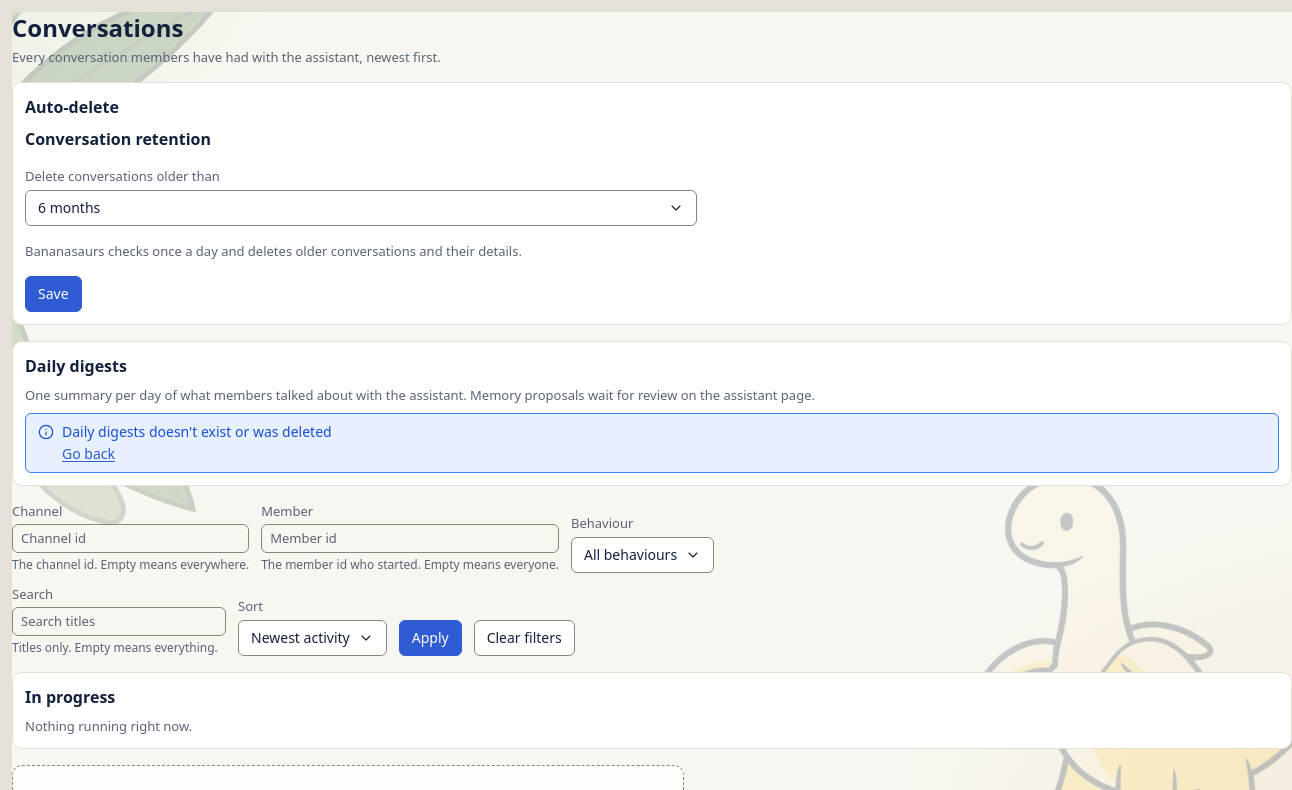
Test: retention discard restores loaded days without writing
This screenshot has width=1292, height=790.
Click the dropdown named "Delete conversations older than" at (69, 207), box x1=25 y1=190 x2=697 y2=226
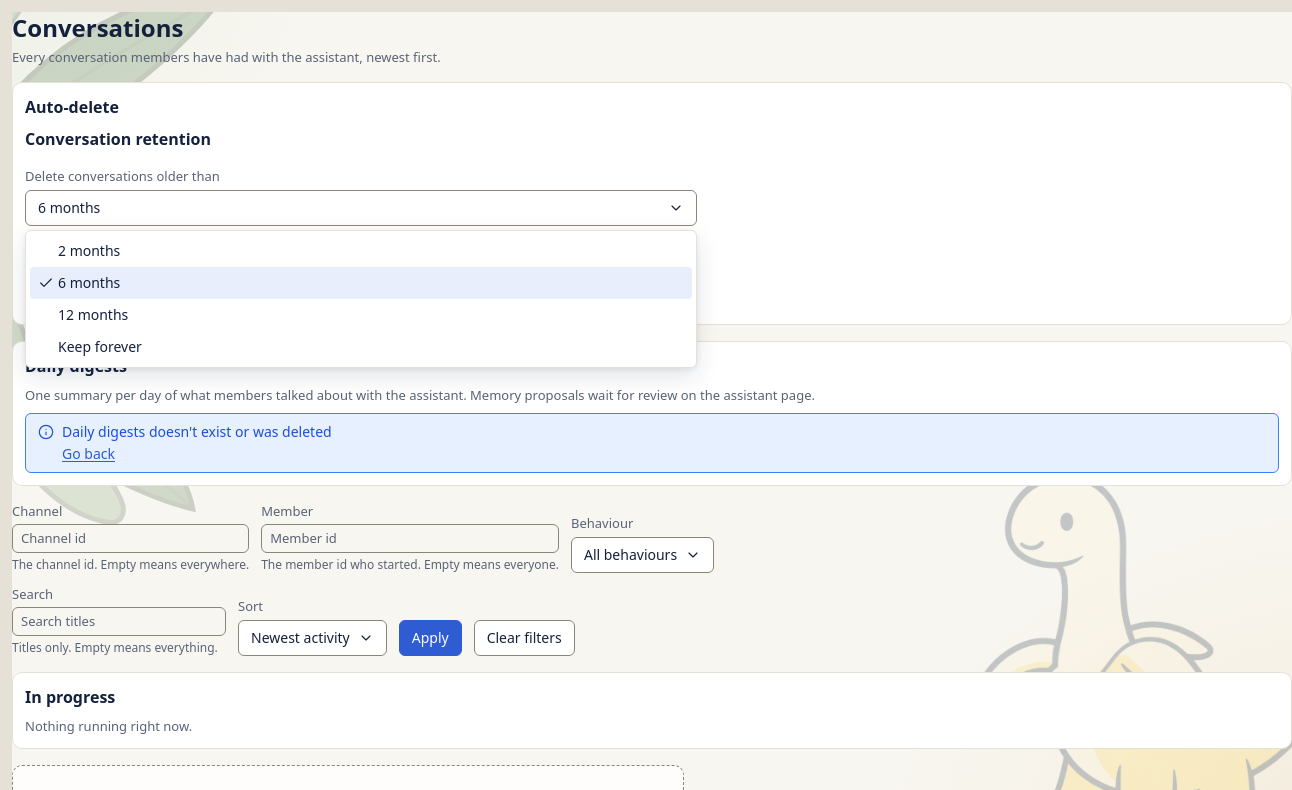
Click the option "12 months" at (93, 314), box x1=58 y1=305 x2=128 y2=324
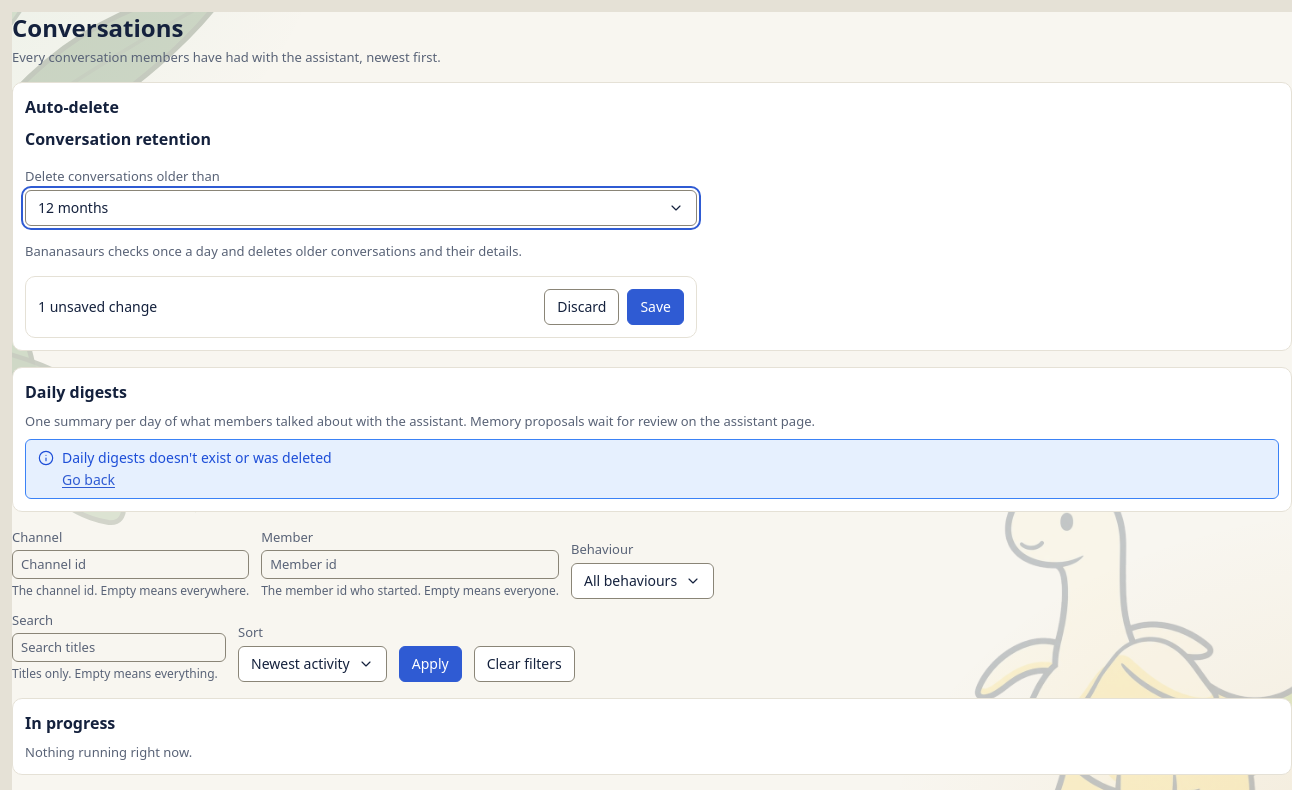
Click the button "Discard" at (582, 307), box x1=544 y1=289 x2=619 y2=325
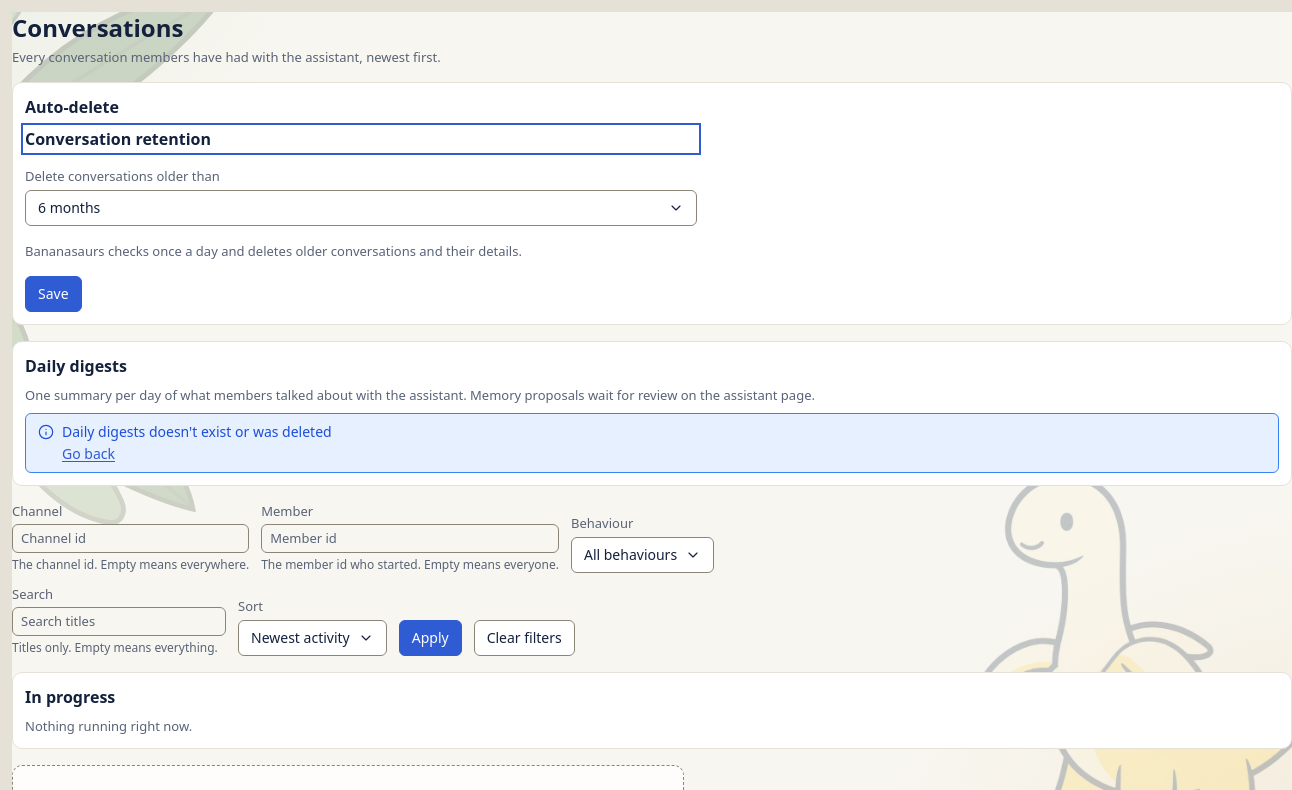
Expected: the dropdown named "Delete conversations older than" reads "6 months", x1=25 y1=190 x2=697 y2=226
